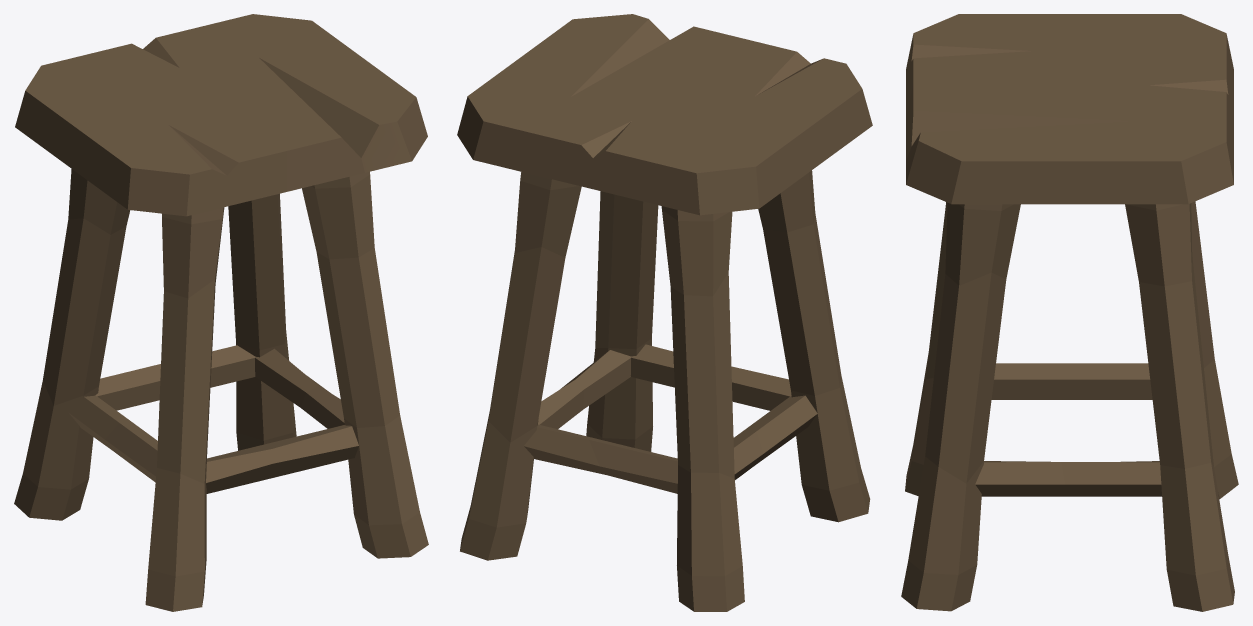
The model's file is kingdom_SM_Prop_Stool_06.gltf.
The picture shows the model from 3 angles, left to right: view 1: azimuth 30°, elevation 25°; view 2: azimuth 150°, elevation 25°; view 3: azimuth 270°, elevation 25°; orthographic projection. The views are drawn at different scales.
Parts seen in each view (by area): view 1: SM_Prop_Stool_06; view 2: SM_Prop_Stool_06; view 3: SM_Prop_Stool_06.
Boxes of the visible parts, x1,y1,x2,y2 form: SM_Prop_Stool_06: [14, 14, 428, 611]; SM_Prop_Stool_06: [457, 14, 872, 611]; SM_Prop_Stool_06: [901, 14, 1238, 611].
Bounding box in the file's own units: 0.4887 × 0.6757 × 0.4523.
1 material, 1 textured.
